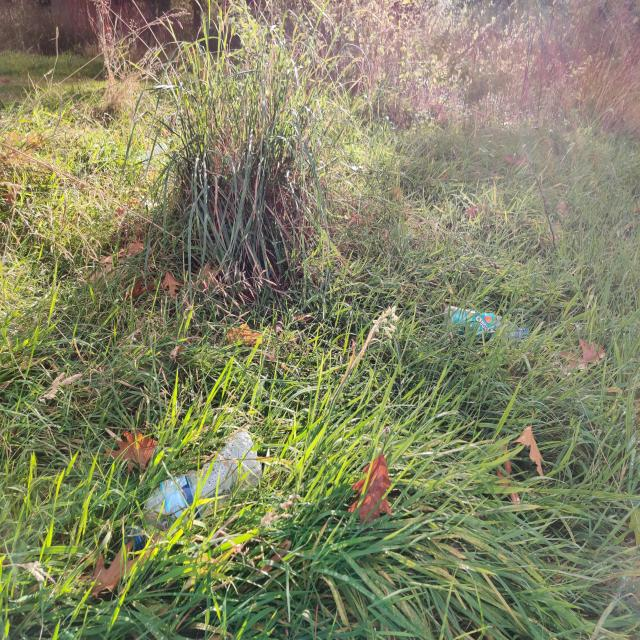litter: (430, 283, 553, 375)
